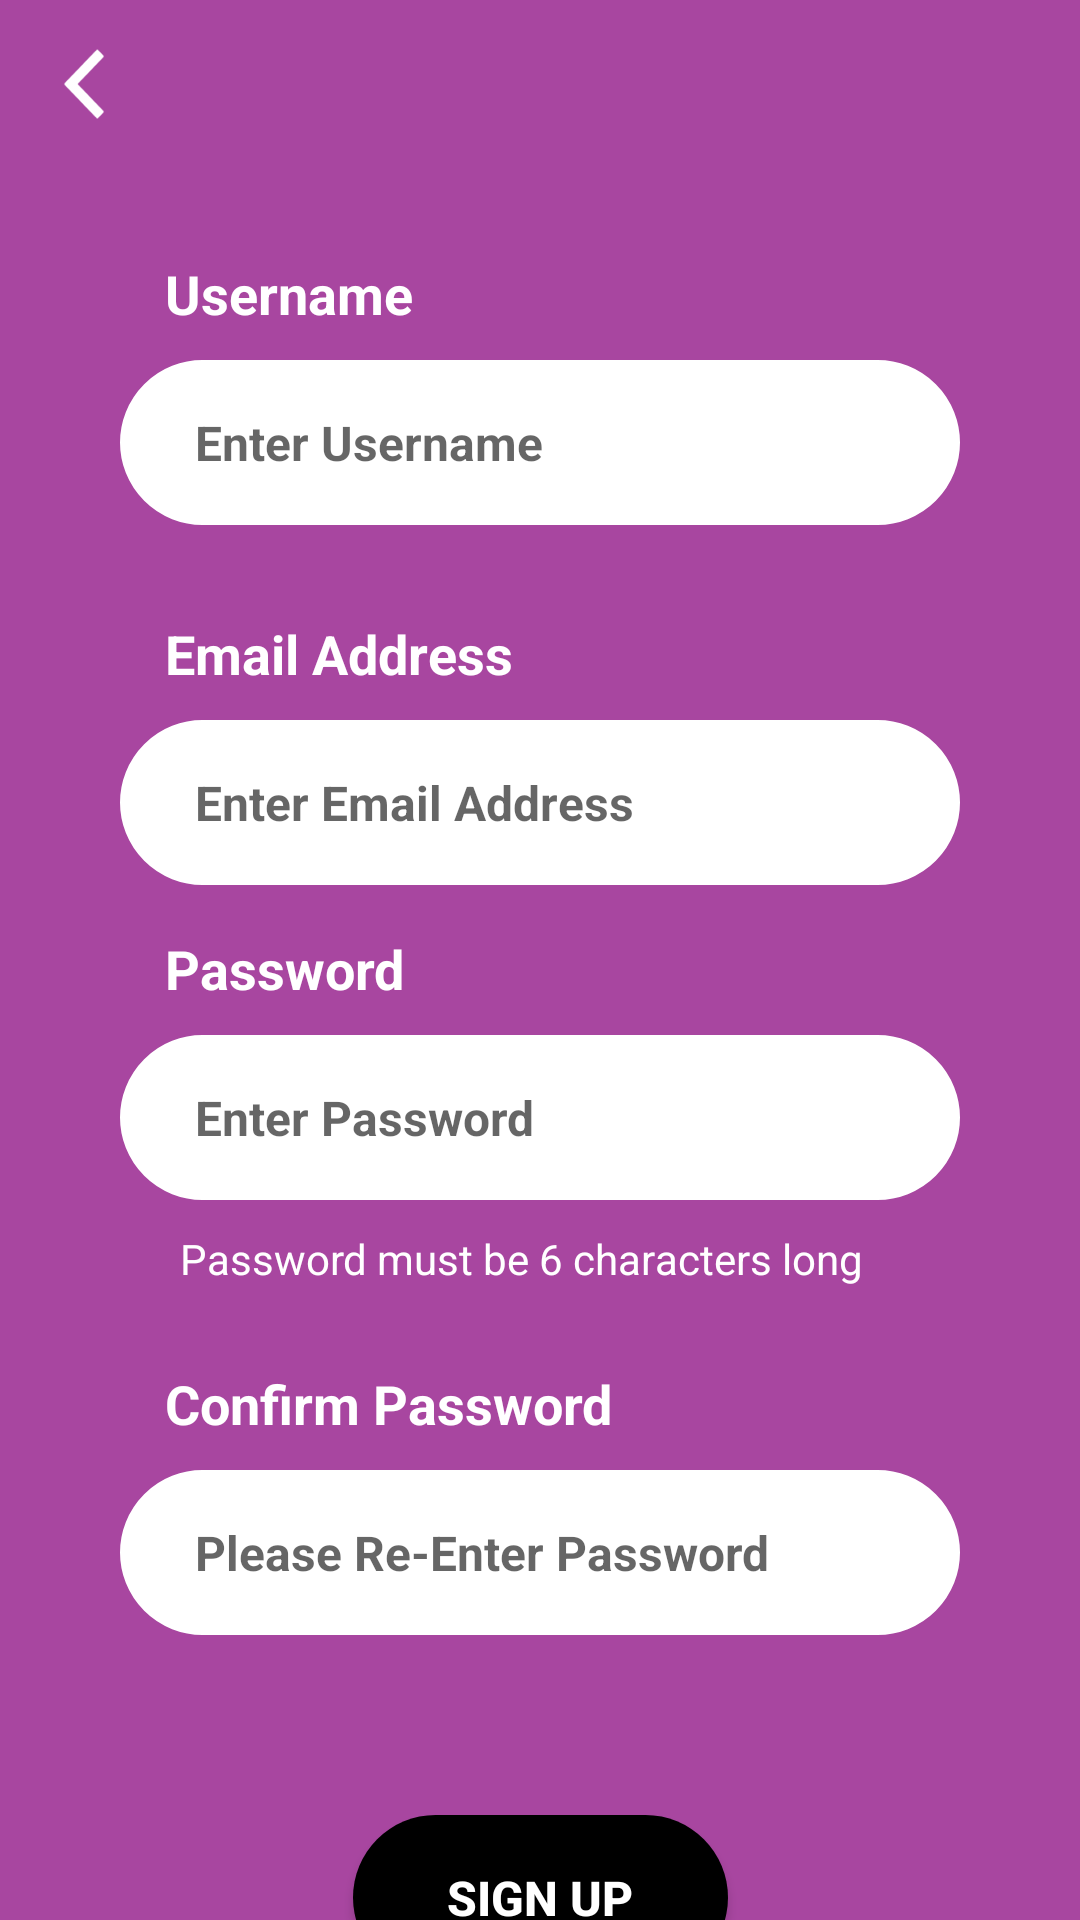

Where icons sit on this 1080w x 1920h app screen, as [x1, y1, x2, y2]:
back: [64, 49, 104, 119]
